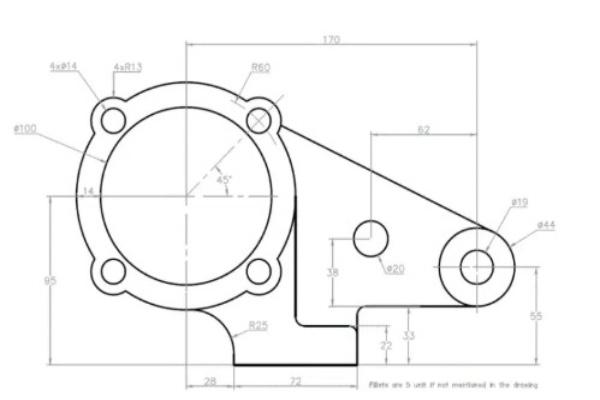dimensions: (531, 215, 568, 240), (43, 53, 85, 74), (196, 370, 229, 395), (509, 189, 535, 218), (112, 57, 149, 76), (74, 178, 100, 204), (245, 317, 275, 339), (313, 31, 354, 47), (525, 304, 550, 328), (397, 326, 422, 349), (409, 118, 436, 139), (242, 60, 279, 75), (285, 372, 311, 393), (38, 269, 65, 289), (10, 120, 41, 137), (321, 263, 348, 282), (385, 258, 408, 280), (378, 337, 398, 356)
